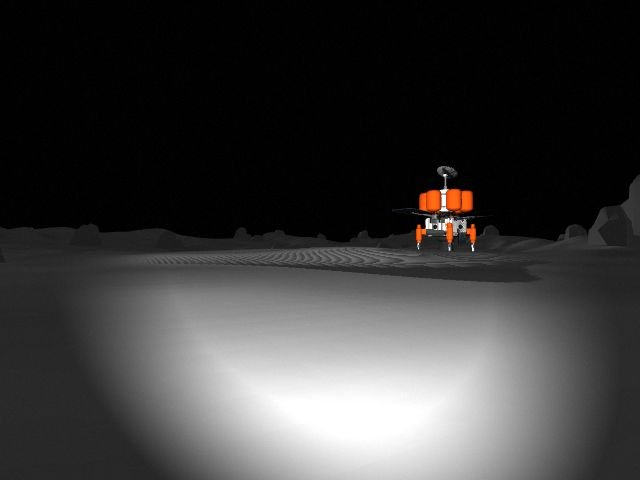homebase: (393, 164, 502, 254)
